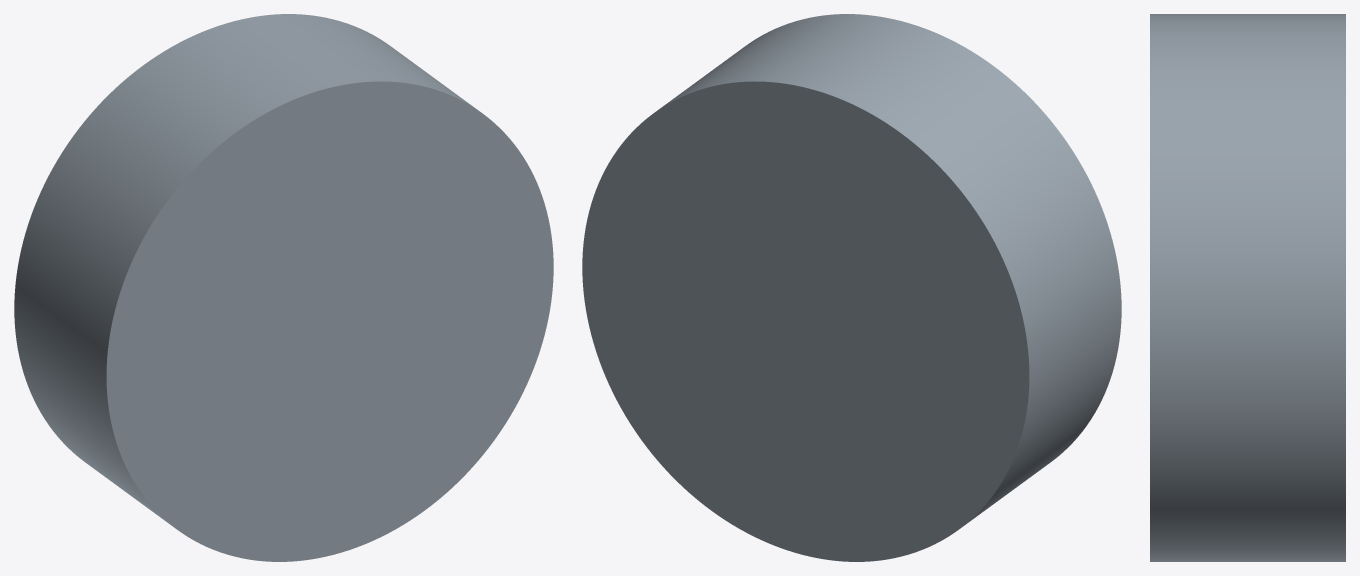
File: button.dae
3 renders of one model, left to right at view 1: azimuth 30°, elevation 25°; view 2: azimuth 150°, elevation 25°; view 3: azimuth 270°, elevation 25°, orthographic. The views are drawn at different scales.
Bounding box in the file's own units: 0.07 × 0.07 × 0.025.
